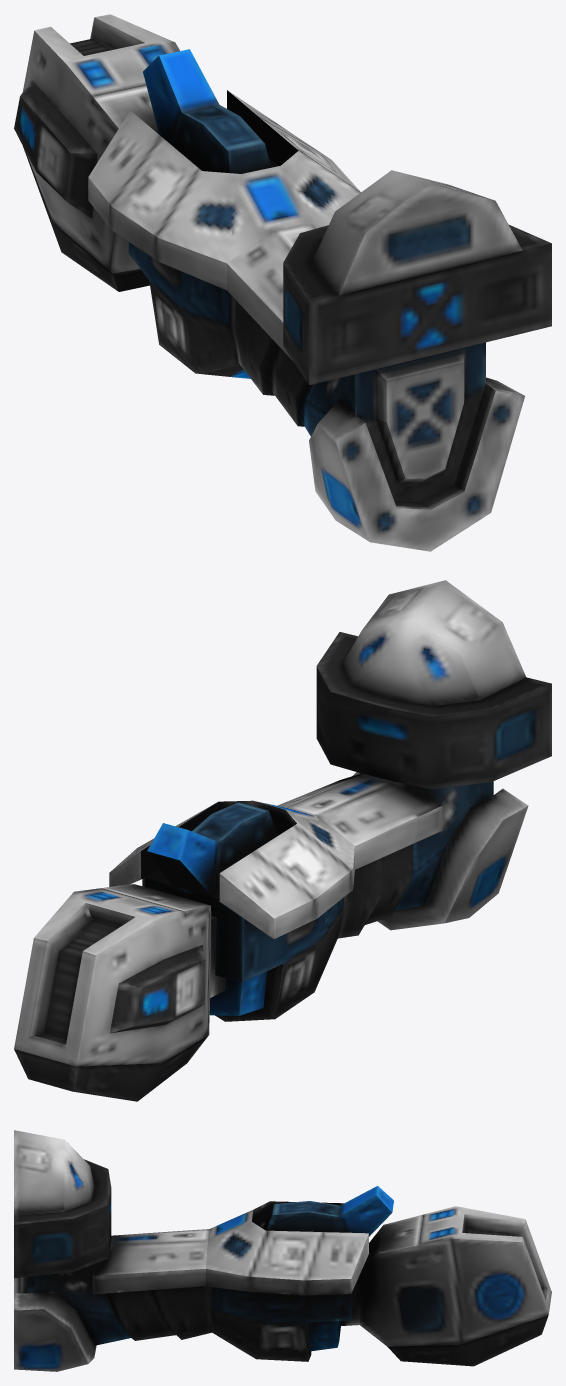
The model's file is PBR_HP_Mesh_Leg1_R.fbx.
3 views of the same model, one above another, from view 1: azimuth 30°, elevation 25°; view 2: azimuth 150°, elevation 25°; view 3: azimuth 270°, elevation 25° (orthographic). The views are drawn at different scales.
Visible parts, largest first — view 1: Leg1; view 2: Leg1; view 3: Leg1.
Boxes of the visible parts, left/top/right/bottom form: Leg1: left=14, top=14, right=551, bottom=551; Leg1: left=14, top=580, right=551, bottom=1101; Leg1: left=14, top=1130, right=551, bottom=1371.
Bounding box in the file's own units: 41.21 × 58.37 × 120.
